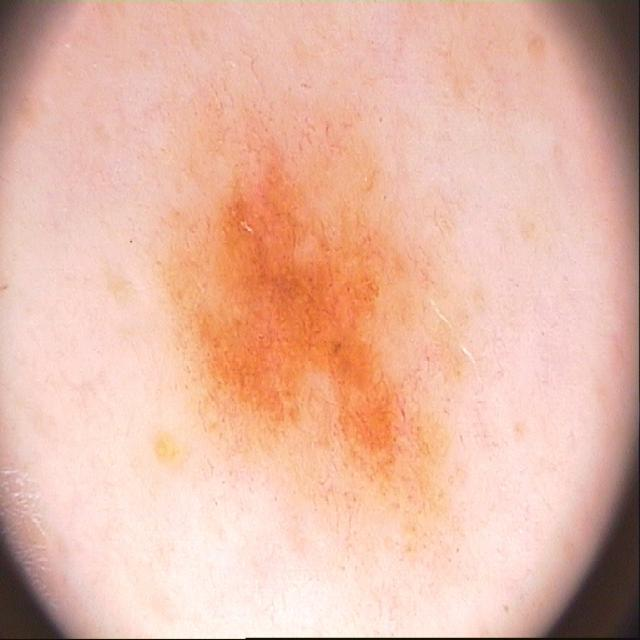Skin-Cancer Nevus: (82, 24, 530, 532)
